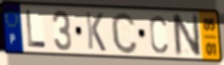3: (51, 9, 72, 52)
C: (110, 10, 140, 56), (148, 14, 169, 55)
K: (84, 10, 108, 53)
L: (24, 9, 48, 50)
N: (170, 13, 203, 58)
